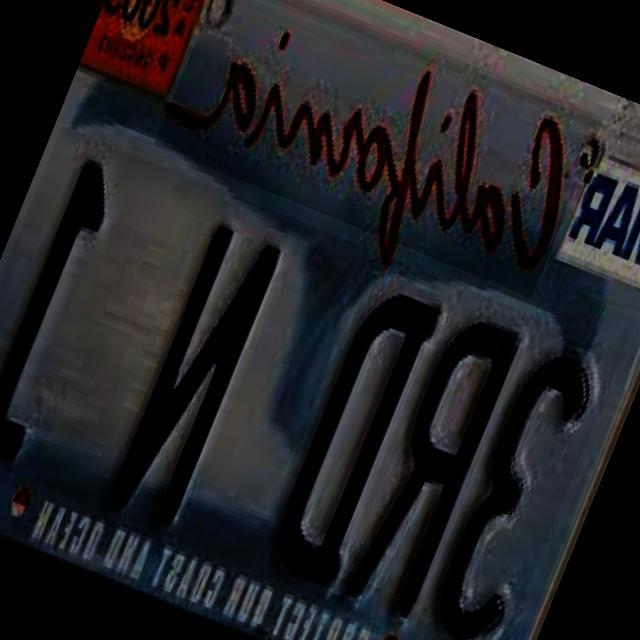Plat: (1, 0, 640, 634)
